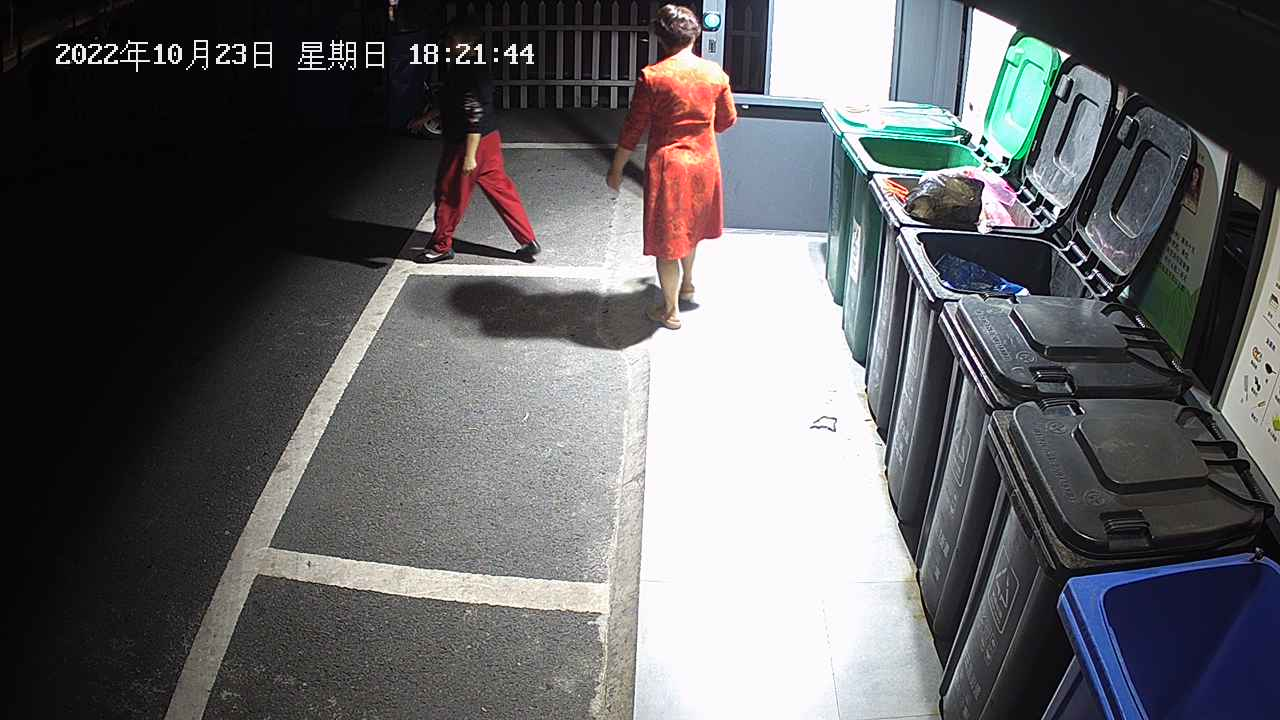person: (600, 3, 739, 332), (407, 33, 542, 268)
